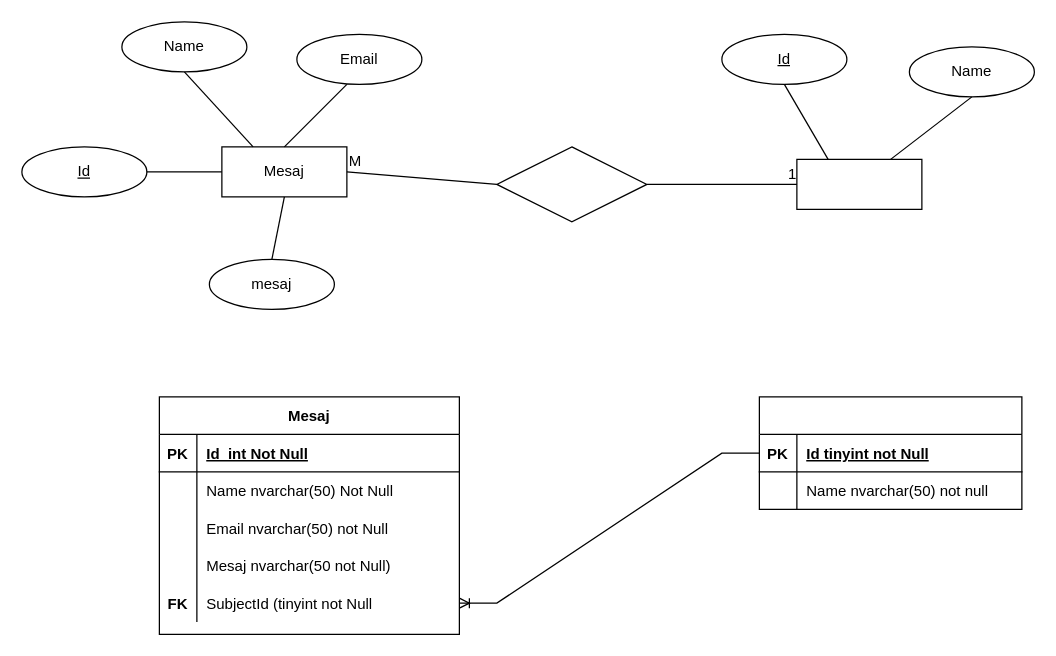
This 1056x656 diagram has some shape labels left out. Here are the shapes that lost their labels. From the top down, the box of each, then its label:
(496, 146, 647, 222): Olur
(796, 158, 922, 209): Subject
(758, 396, 1022, 509): Sunject
